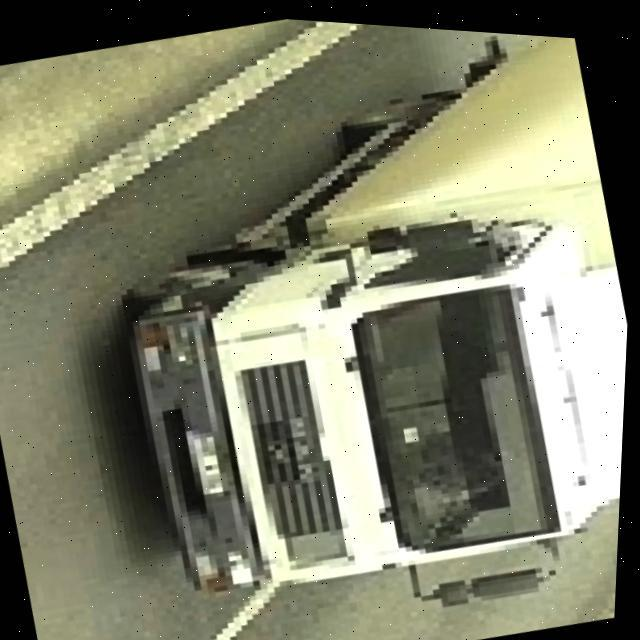truck: (58, 4, 640, 640)
